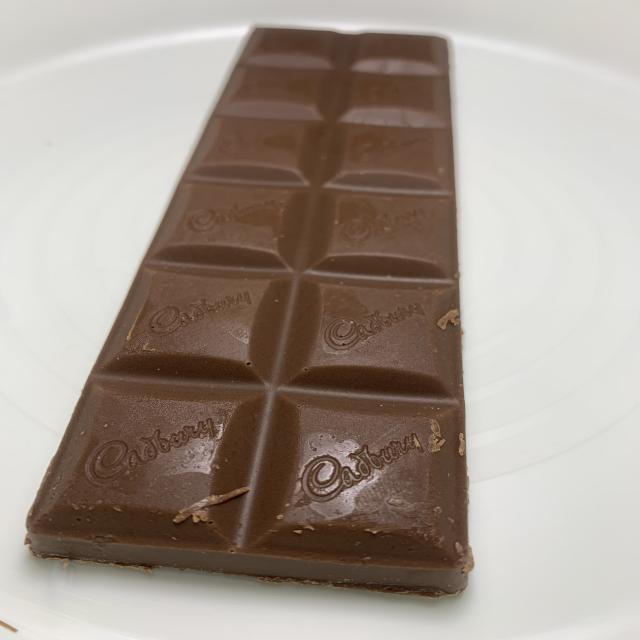Chocolate: (34, 22, 474, 594)
